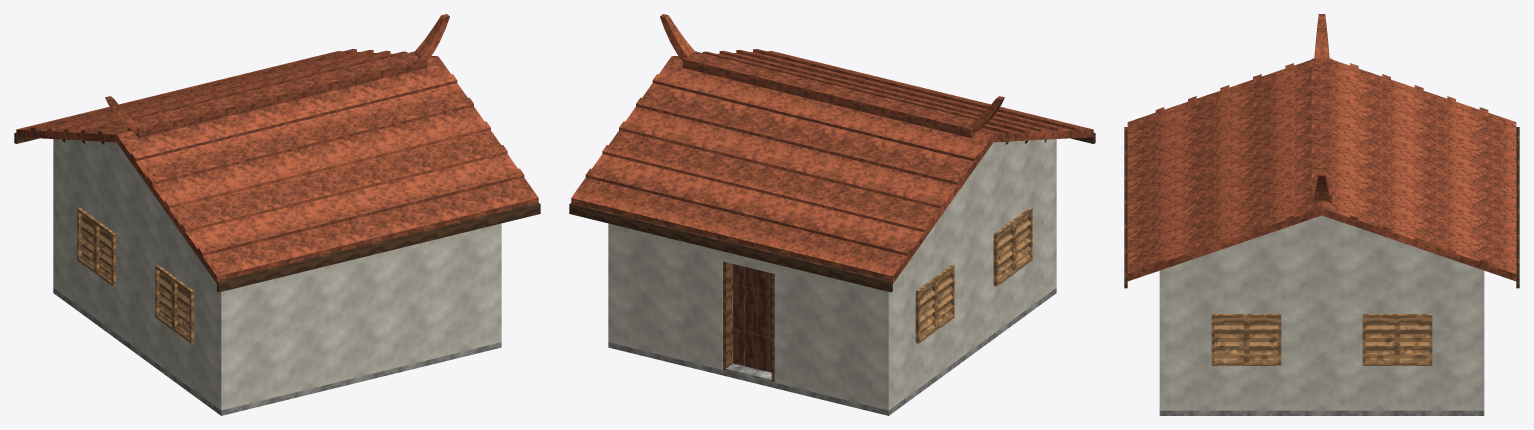
The model's file is cottage_b.fbx.
3 views of the same model, side by side, from view 1: azimuth 30°, elevation 25°; view 2: azimuth 150°, elevation 25°; view 3: azimuth 270°, elevation 25° (orthographic). The views are drawn at different scales.
Visible parts, largest first — view 1: cottage_b; view 2: cottage_b; view 3: cottage_b.
Part boxes in pixels (x1,y1,x2,y2): cottage_b: (14, 14, 540, 415); cottage_b: (569, 14, 1095, 415); cottage_b: (1124, 14, 1519, 415).
Bounding box in the file's own units: 659 × 485 × 682.
